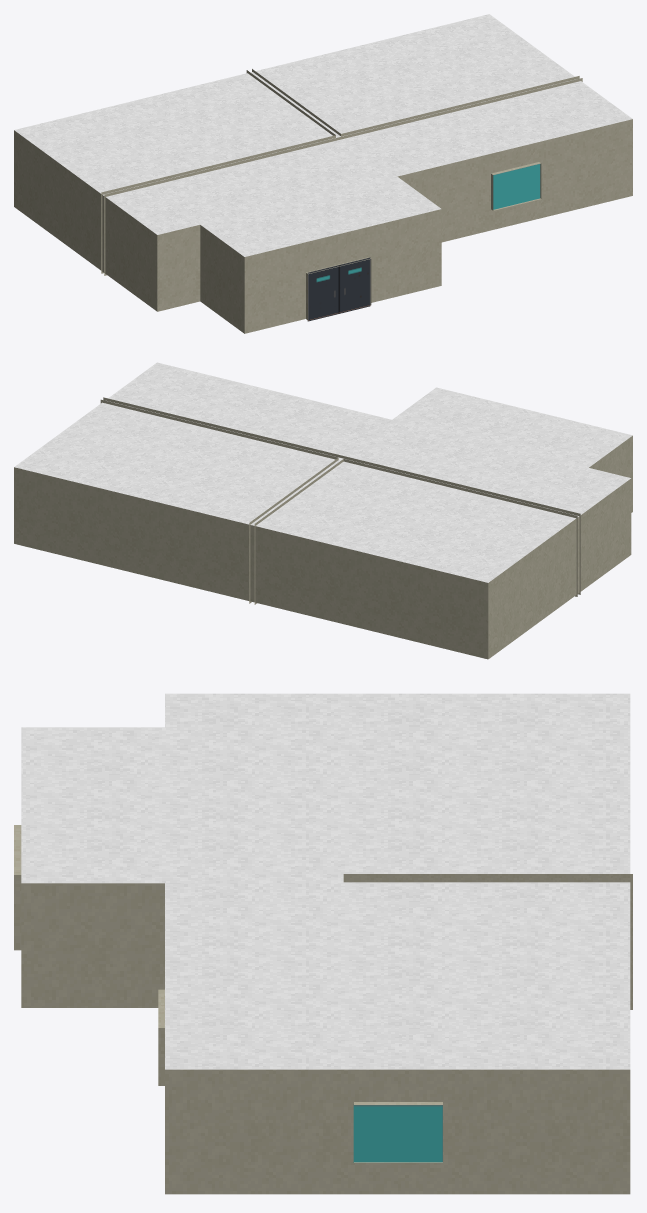
Rendered from bellgates-main-inside.glb.
The picture shows the model from 3 angles, top to bottom: view 1: azimuth 30°, elevation 25°; view 2: azimuth 150°, elevation 25°; view 3: azimuth 270°, elevation 25°; orthographic projection. The views are drawn at different scales.
Visible parts, largest first — view 1: walls, inside-walls, door, windows; view 2: walls, inside-walls; view 3: walls, windows.001, inside-walls.
Boxes of the visible parts, x1=… form: walls: x1=14, y1=14, x2=632, y2=333; inside-walls: x1=101, y1=69, x2=582, y2=275; door: x1=307, y1=257, x2=370, y2=321; windows: x1=493, y1=164, x2=540, y2=209; walls: x1=14, y1=362, x2=632, y2=659; inside-walls: x1=100, y1=397, x2=580, y2=604; walls: x1=14, y1=693, x2=630, y2=1194; windows.001: x1=353, y1=1104, x2=442, y2=1162; inside-walls: x1=343, y1=874, x2=632, y2=1009.
Size of what is drawn, in the model's own units: 4.86 by 0.7866 by 3.34.
4 materials, 4 textured.
